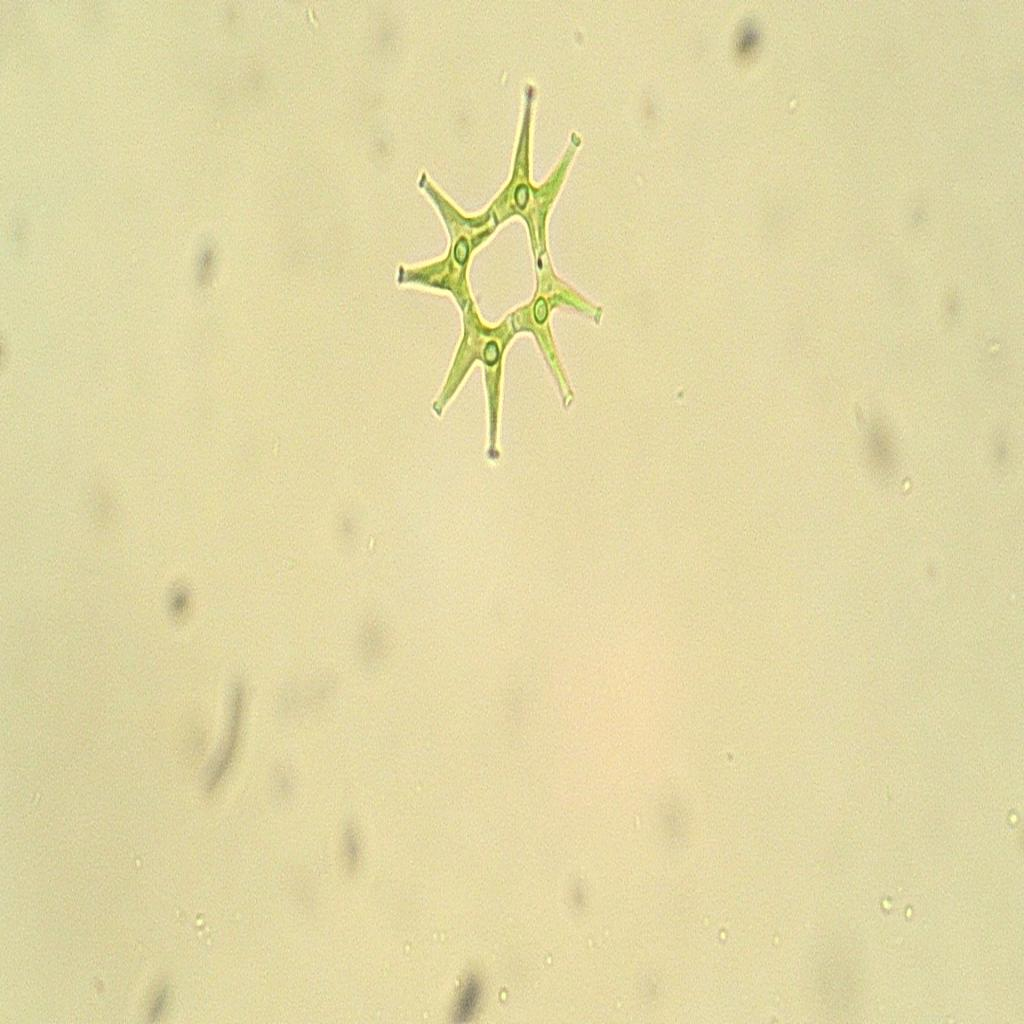Pediastrum_10: (390, 57, 616, 480)
